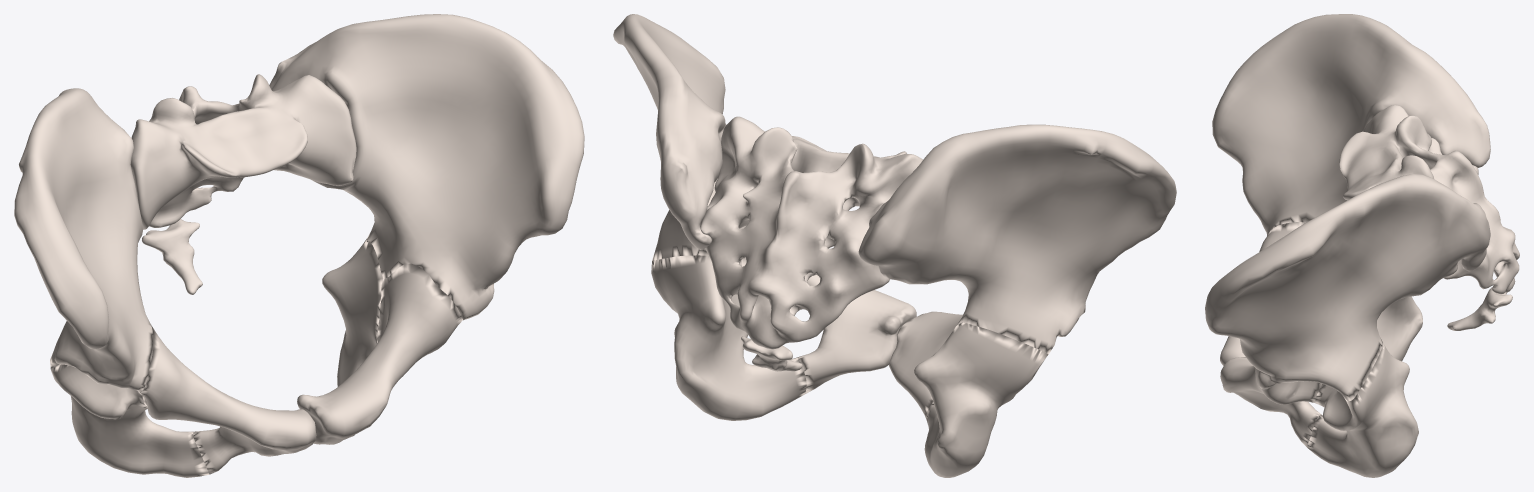
3 renders of one model, left to right at view 1: azimuth 30°, elevation 25°; view 2: azimuth 150°, elevation 25°; view 3: azimuth 270°, elevation 25°, orthographic. The views are drawn at different scales.
Parts seen in each view (by area): view 1: VH_F_ilium_compact_bone_L, VH_F_ilium_compact_bone_R, VH_F_sacrum, VH_F_pubis_compact_bone_L, VH_F_pubis_compact_bone_R, VH_F_ischium_compact_bone_R, VH_F_ischium_compact_bone_L, VH_F_coccyx; view 2: VH_F_ilium_compact_bone_R, VH_F_sacrum, VH_F_ilium_compact_bone_L, VH_F_ischium_compact_bone_L, VH_F_ischium_compact_bone_R, VH_F_pubis_compact_bone_L, VH_F_pubis_compact_bone_R, VH_F_coccyx; view 3: VH_F_ilium_compact_bone_L, VH_F_ilium_compact_bone_R, VH_F_sacrum, VH_F_ischium_compact_bone_L, VH_F_pubis_compact_bone_L, VH_F_ischium_compact_bone_R, VH_F_coccyx, VH_F_pubis_compact_bone_R.
Part boxes in pixels (bbox=[...]): VH_F_ilium_compact_bone_L: bbox=[269, 14, 584, 320]; VH_F_ilium_compact_bone_R: bbox=[14, 88, 153, 392]; VH_F_sacrum: bbox=[130, 74, 356, 229]; VH_F_pubis_compact_bone_L: bbox=[297, 263, 462, 444]; VH_F_pubis_compact_bone_R: bbox=[140, 325, 316, 474]; VH_F_ischium_compact_bone_R: bbox=[50, 362, 209, 477]; VH_F_ischium_compact_bone_L: bbox=[322, 239, 382, 436]; VH_F_coccyx: bbox=[142, 219, 202, 294]; VH_F_ilium_compact_bone_R: bbox=[858, 124, 1176, 354]; VH_F_sacrum: bbox=[700, 116, 922, 349]; VH_F_ilium_compact_bone_L: bbox=[613, 14, 745, 260]; VH_F_ischium_compact_bone_L: bbox=[651, 255, 806, 420]; VH_F_ischium_compact_bone_R: bbox=[914, 322, 1048, 477]; VH_F_pubis_compact_bone_L: bbox=[740, 258, 916, 393]; VH_F_pubis_compact_bone_R: bbox=[889, 311, 962, 420]; VH_F_coccyx: bbox=[741, 336, 802, 371]; VH_F_ilium_compact_bone_L: bbox=[1205, 174, 1490, 401]; VH_F_ilium_compact_bone_R: bbox=[1212, 14, 1490, 235]; VH_F_sacrum: bbox=[1339, 105, 1519, 294]; VH_F_ischium_compact_bone_L: bbox=[1307, 341, 1418, 477]; VH_F_pubis_compact_bone_L: bbox=[1220, 357, 1322, 447]; VH_F_ischium_compact_bone_R: bbox=[1377, 296, 1422, 361]; VH_F_coccyx: bbox=[1447, 287, 1512, 330]; VH_F_pubis_compact_bone_R: bbox=[1220, 222, 1305, 365].
Bounding box in the file's own units: 0.3168 × 0.2115 × 0.1827.
